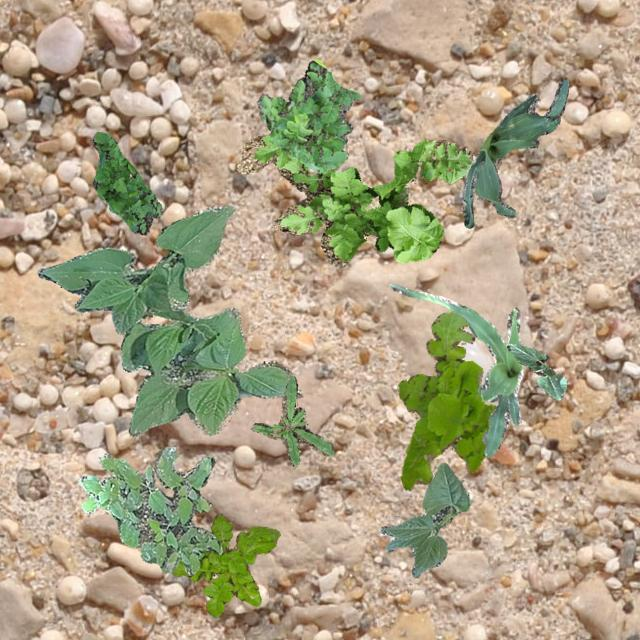crop: (36, 204, 302, 436), (388, 282, 522, 456), (462, 77, 568, 226), (380, 462, 470, 576), (506, 342, 566, 400)
weed: (236, 134, 472, 268), (77, 446, 222, 574), (396, 310, 496, 488), (256, 59, 360, 172), (170, 512, 280, 616), (250, 374, 334, 466), (91, 132, 160, 234)
